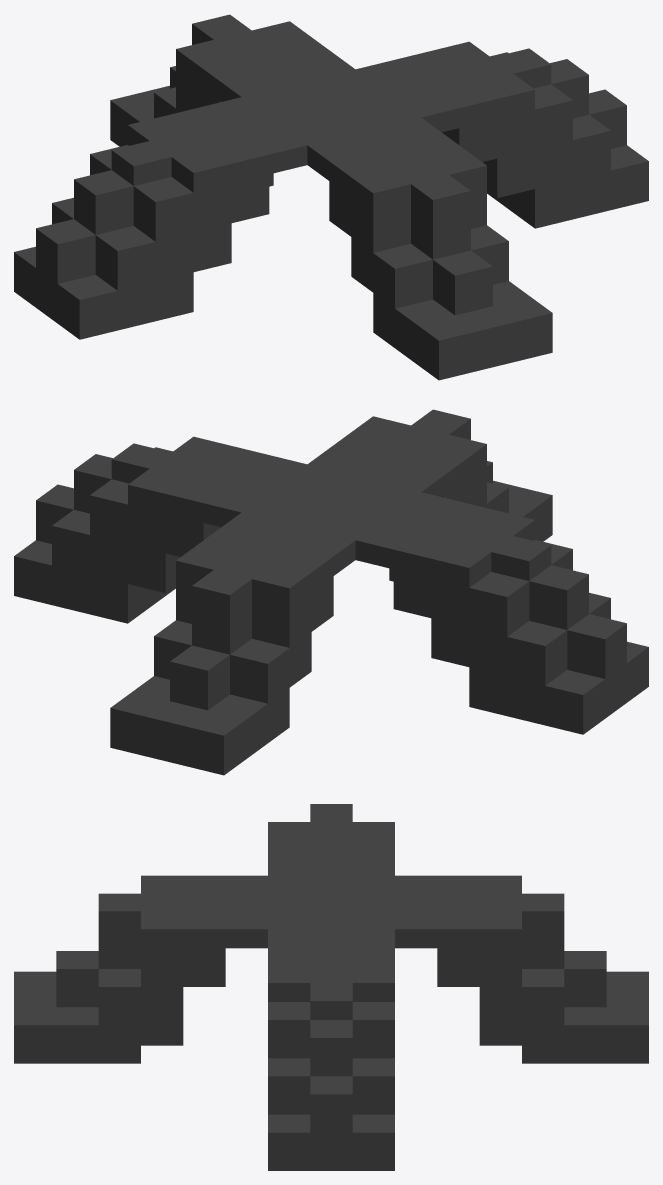
File: legsx16.obj
3 views of the same model, one above another, from view 1: azimuth 30°, elevation 25°; view 2: azimuth 150°, elevation 25°; view 3: azimuth 270°, elevation 25° (orthographic). The views are drawn at different scales.
Bounding box in the file's own units: 3 × 0.7 × 3.
Materials: 1 (1 with a texture image).
